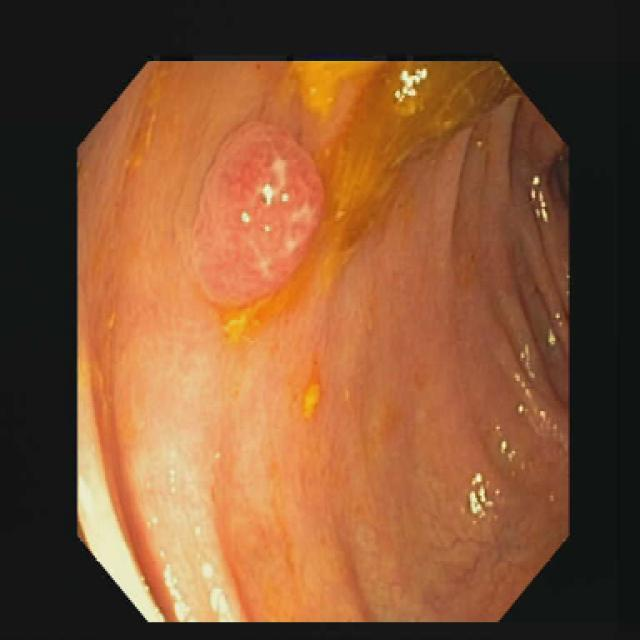tumor: (195, 122, 323, 293)
